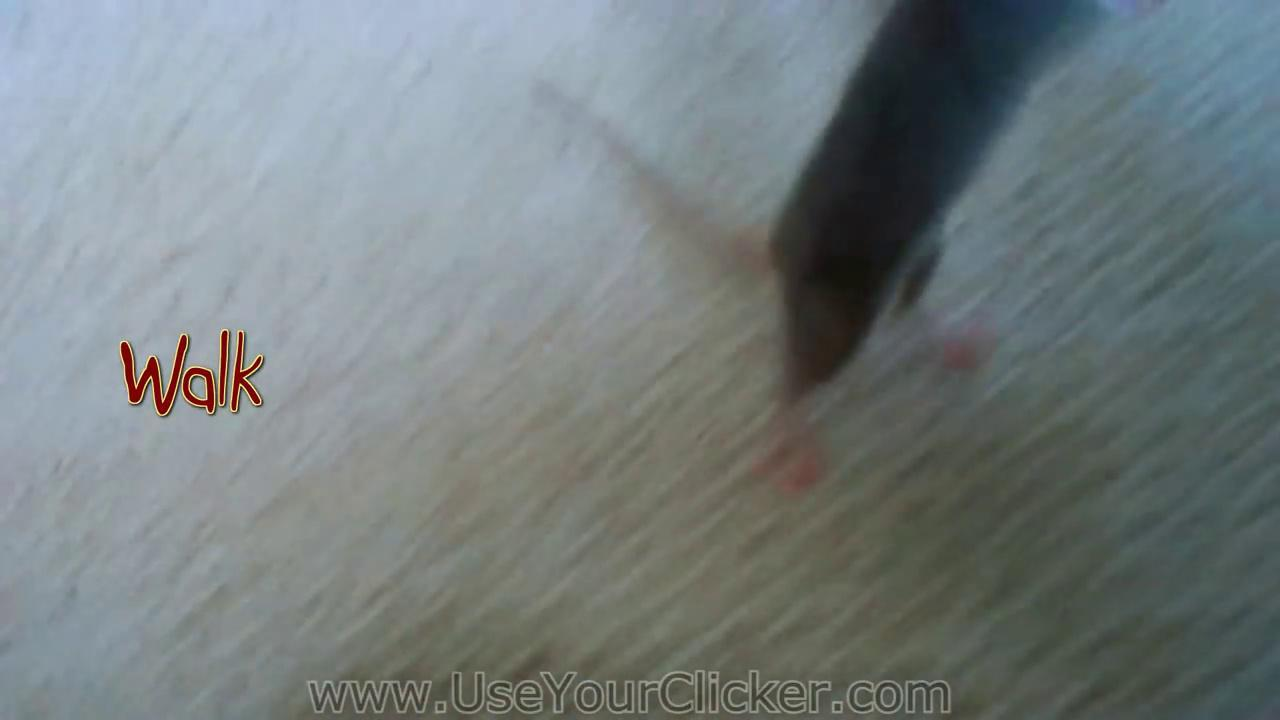rat: (531, 0, 1109, 411)
